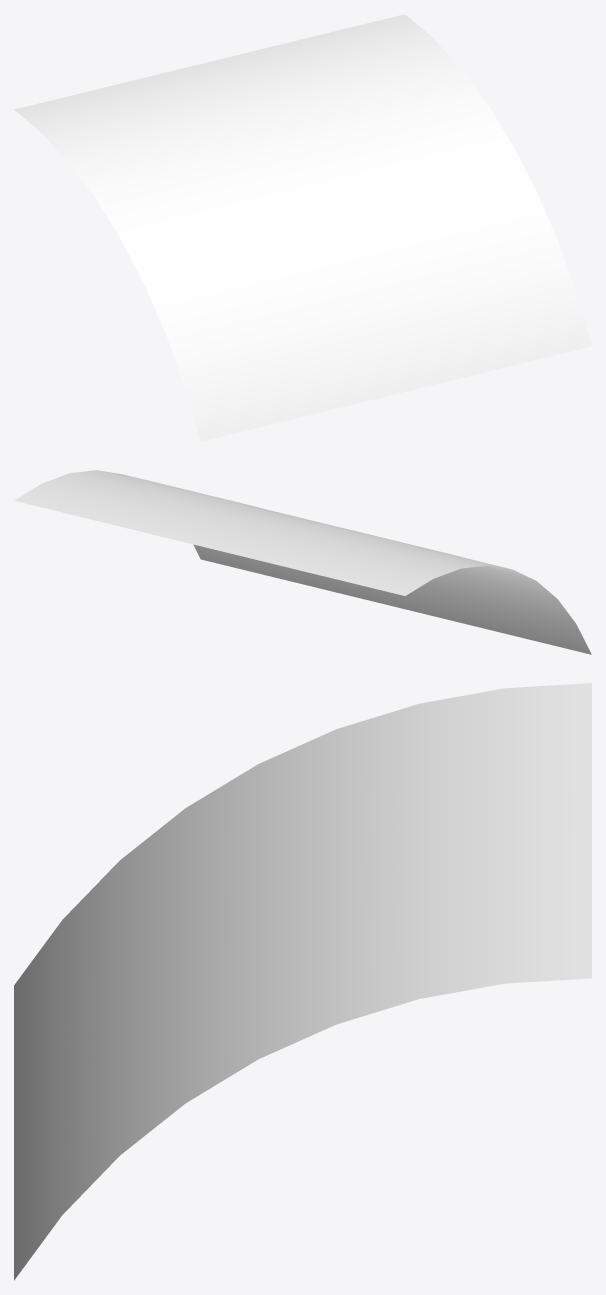
The model's file is grd_F_H_1.dae.
3 views of the same model, one above another, from view 1: azimuth 30°, elevation 25°; view 2: azimuth 150°, elevation 25°; view 3: azimuth 270°, elevation 25° (orthographic). The views are drawn at different scales.
Visible parts, largest first — view 1: grass_0_0, smat_1_0; view 2: grass_0_0, smat_1_0; view 3: grass_0_0, smat_1_0.
Boxes of the visible parts, box(x1,y1,x2,y2) form: grass_0_0: box(14, 14, 591, 441); smat_1_0: box(161, 80, 539, 352); grass_0_0: box(14, 470, 591, 654); smat_1_0: box(122, 476, 454, 555); grass_0_0: box(14, 683, 591, 1280); smat_1_0: box(63, 783, 504, 1156).
Size of the model in its own units: 512 by 244 by 423.
2 materials, 1 textured.
